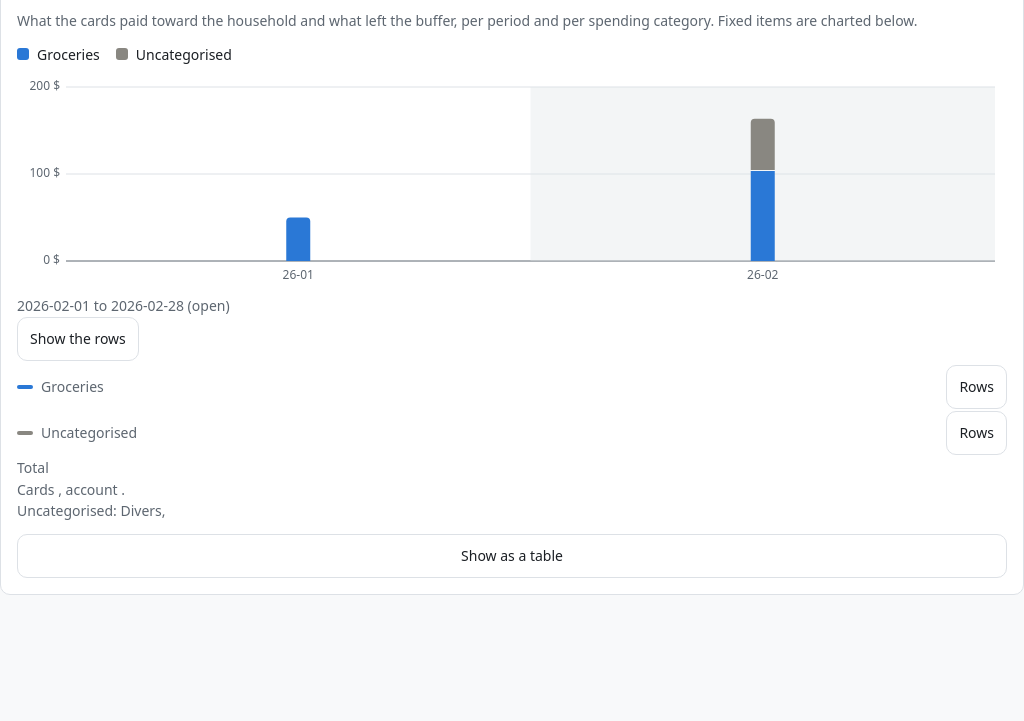
a row that no longer belongs to the category being shown leaves the list
Expected: the slider is shown, x1=17 y1=77 x2=1007 y2=287
Click the button with aria-label "Show the rows for Uncategorised": (977, 433) x1=946 y1=411 x2=1007 y2=455
(page scrolled)
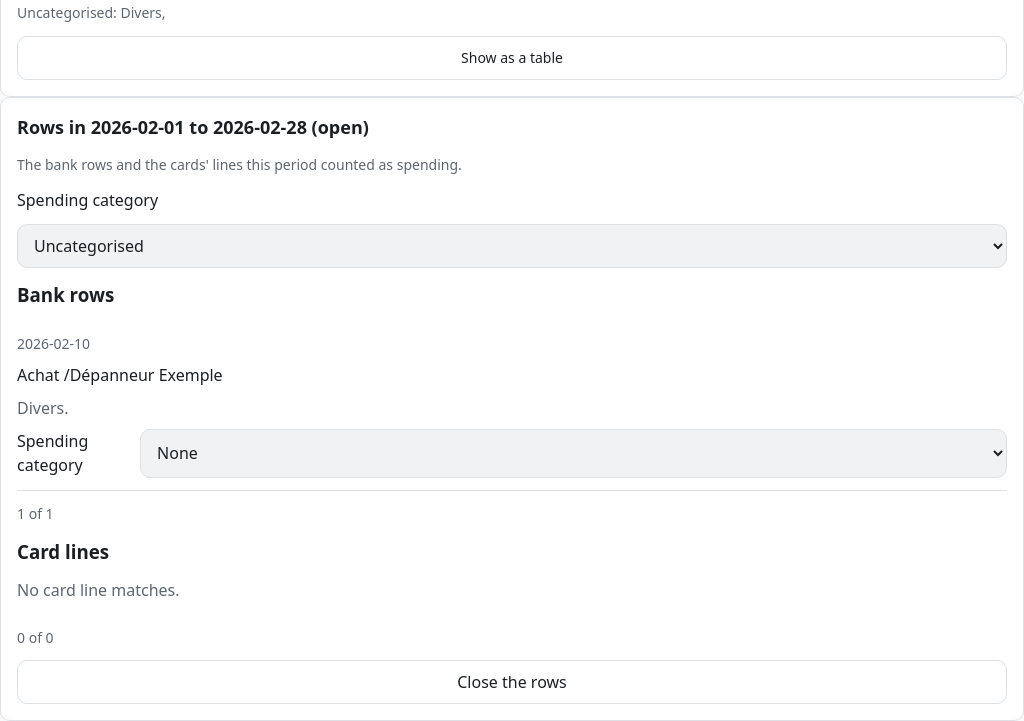
Select "Household" in the dropdown named "Spending category for Achat /Dépanneur Exemple": (574, 454) x1=140 y1=429 x2=1007 y2=478
(page scrolled)
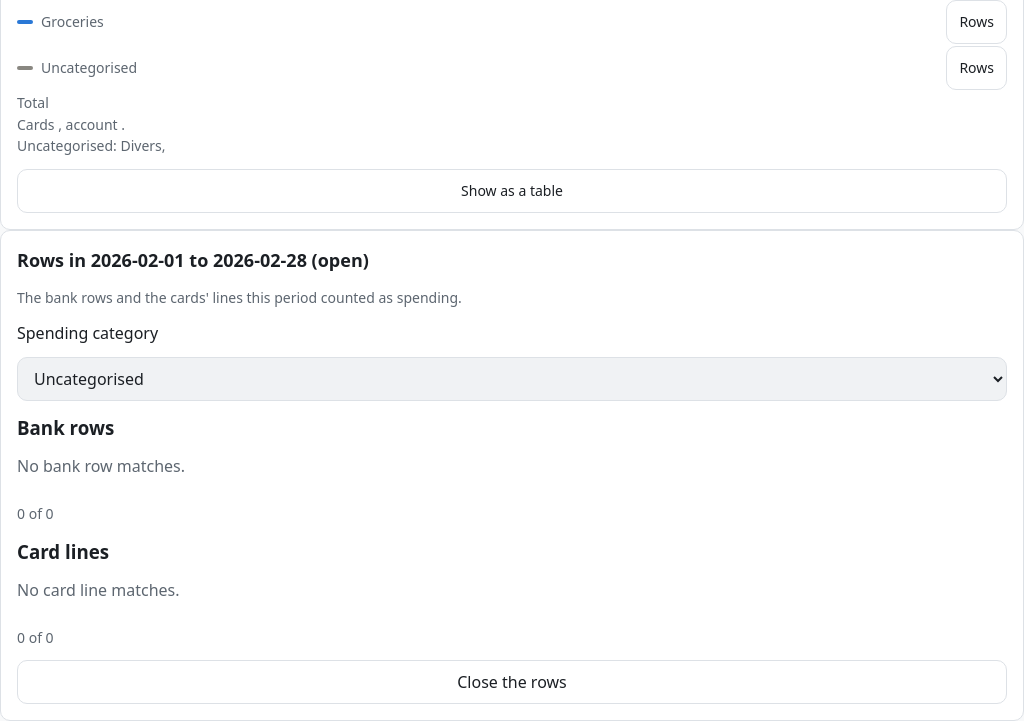
Expected: the text "Achat /Dépanneur Exemple" is gone
Expected: the text "No bank row matches." is shown, x1=17 y1=455 x2=185 y2=477
